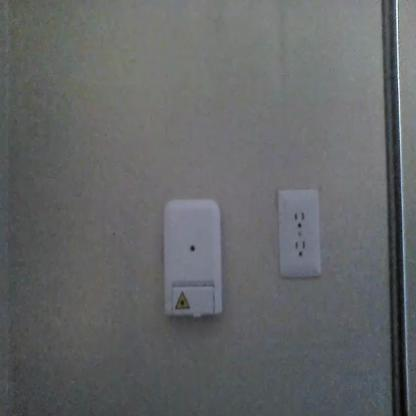OUTLET: (278, 190, 322, 278)
